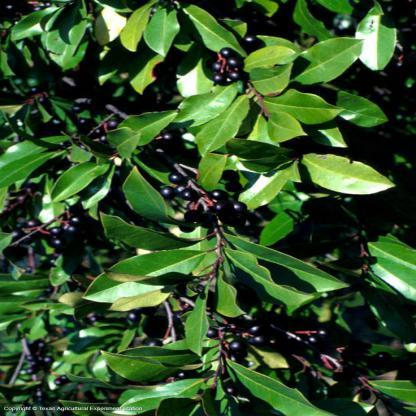Cherry leaf: (230, 236, 338, 320), (86, 248, 214, 298), (293, 148, 389, 200), (83, 216, 204, 257), (38, 158, 112, 206)
